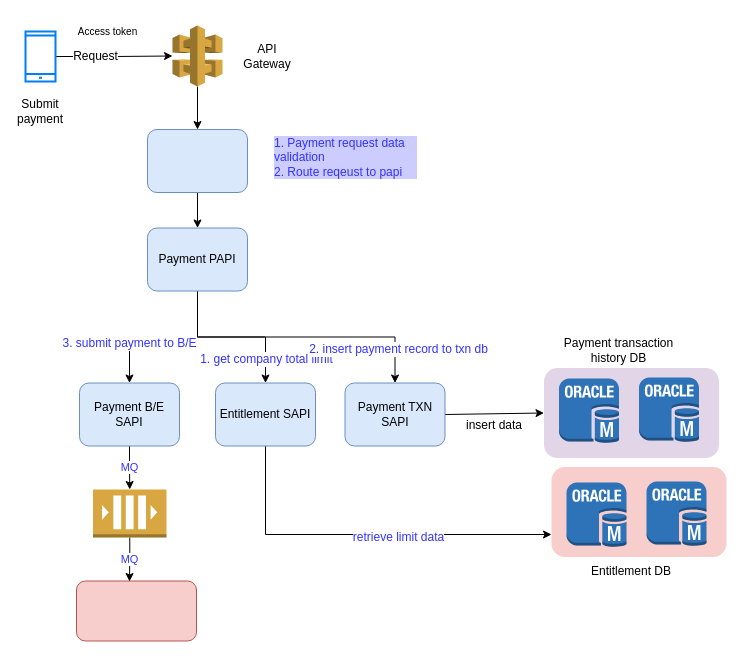
This 743x659 diagram has some shape labels left out. Each missing label, with the box of its shape:
B/E Systems: (76, 580, 196, 641)
Payment EAPI: (146, 128, 248, 192)
